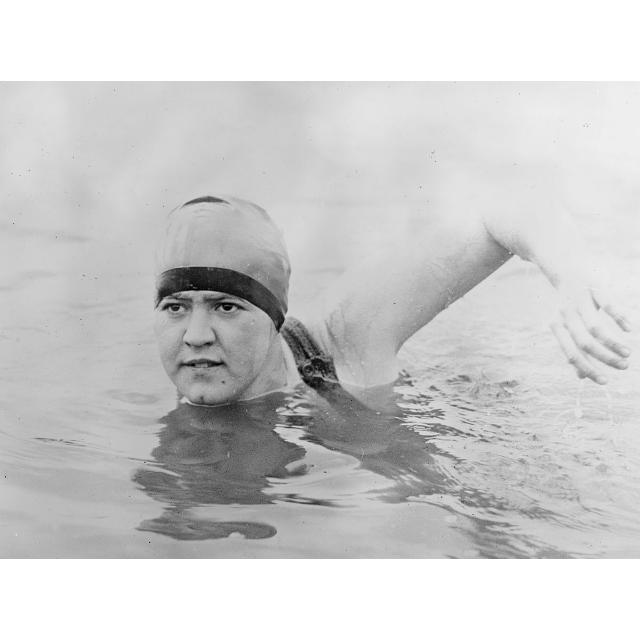human: (145, 179, 635, 423)
